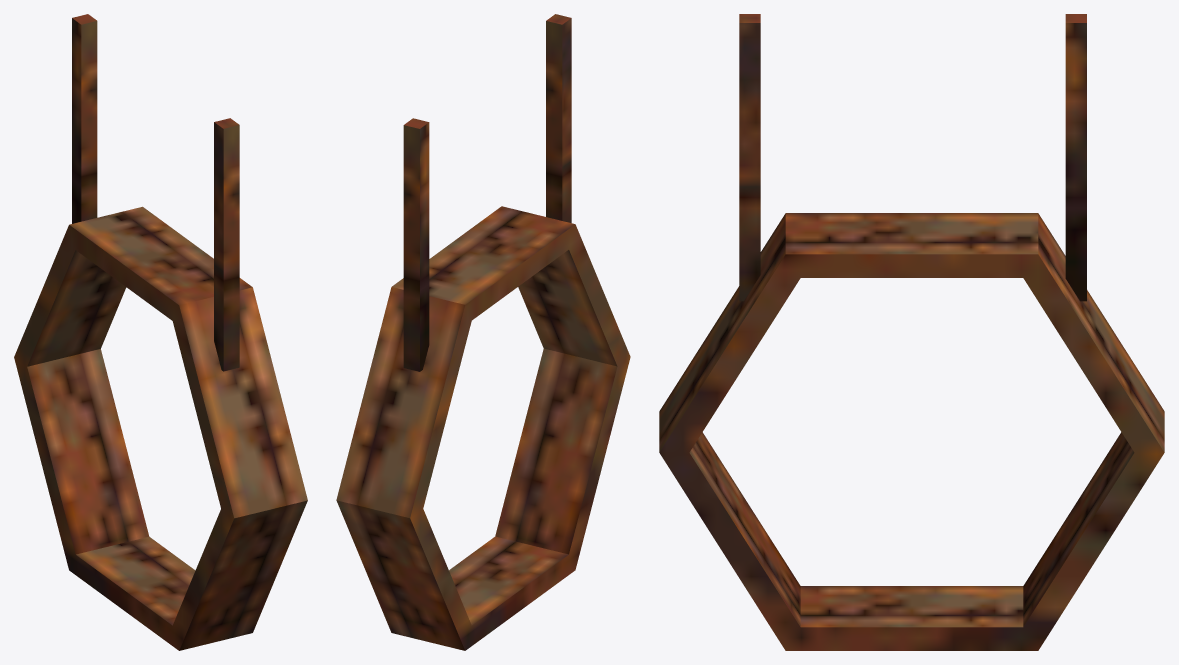
File: pipe_hanger_rusted.fbx
The picture shows the model from 3 angles, left to right: view 1: azimuth 30°, elevation 25°; view 2: azimuth 150°, elevation 25°; view 3: azimuth 270°, elevation 25°; orthographic projection. The views are drawn at different scales.
Parts seen in each view (by area): view 1: pipe_hanger_rusted; view 2: pipe_hanger_rusted; view 3: pipe_hanger_rusted.
Boxes of the visible parts, box(x1,y1,x2,y2) form: pipe_hanger_rusted: box(14, 14, 307, 650); pipe_hanger_rusted: box(336, 14, 630, 650); pipe_hanger_rusted: box(659, 14, 1164, 650).
Bounding box in the file's own units: 10.97 × 75.5 × 56.76.
Materials: 1 (1 with a texture image).
